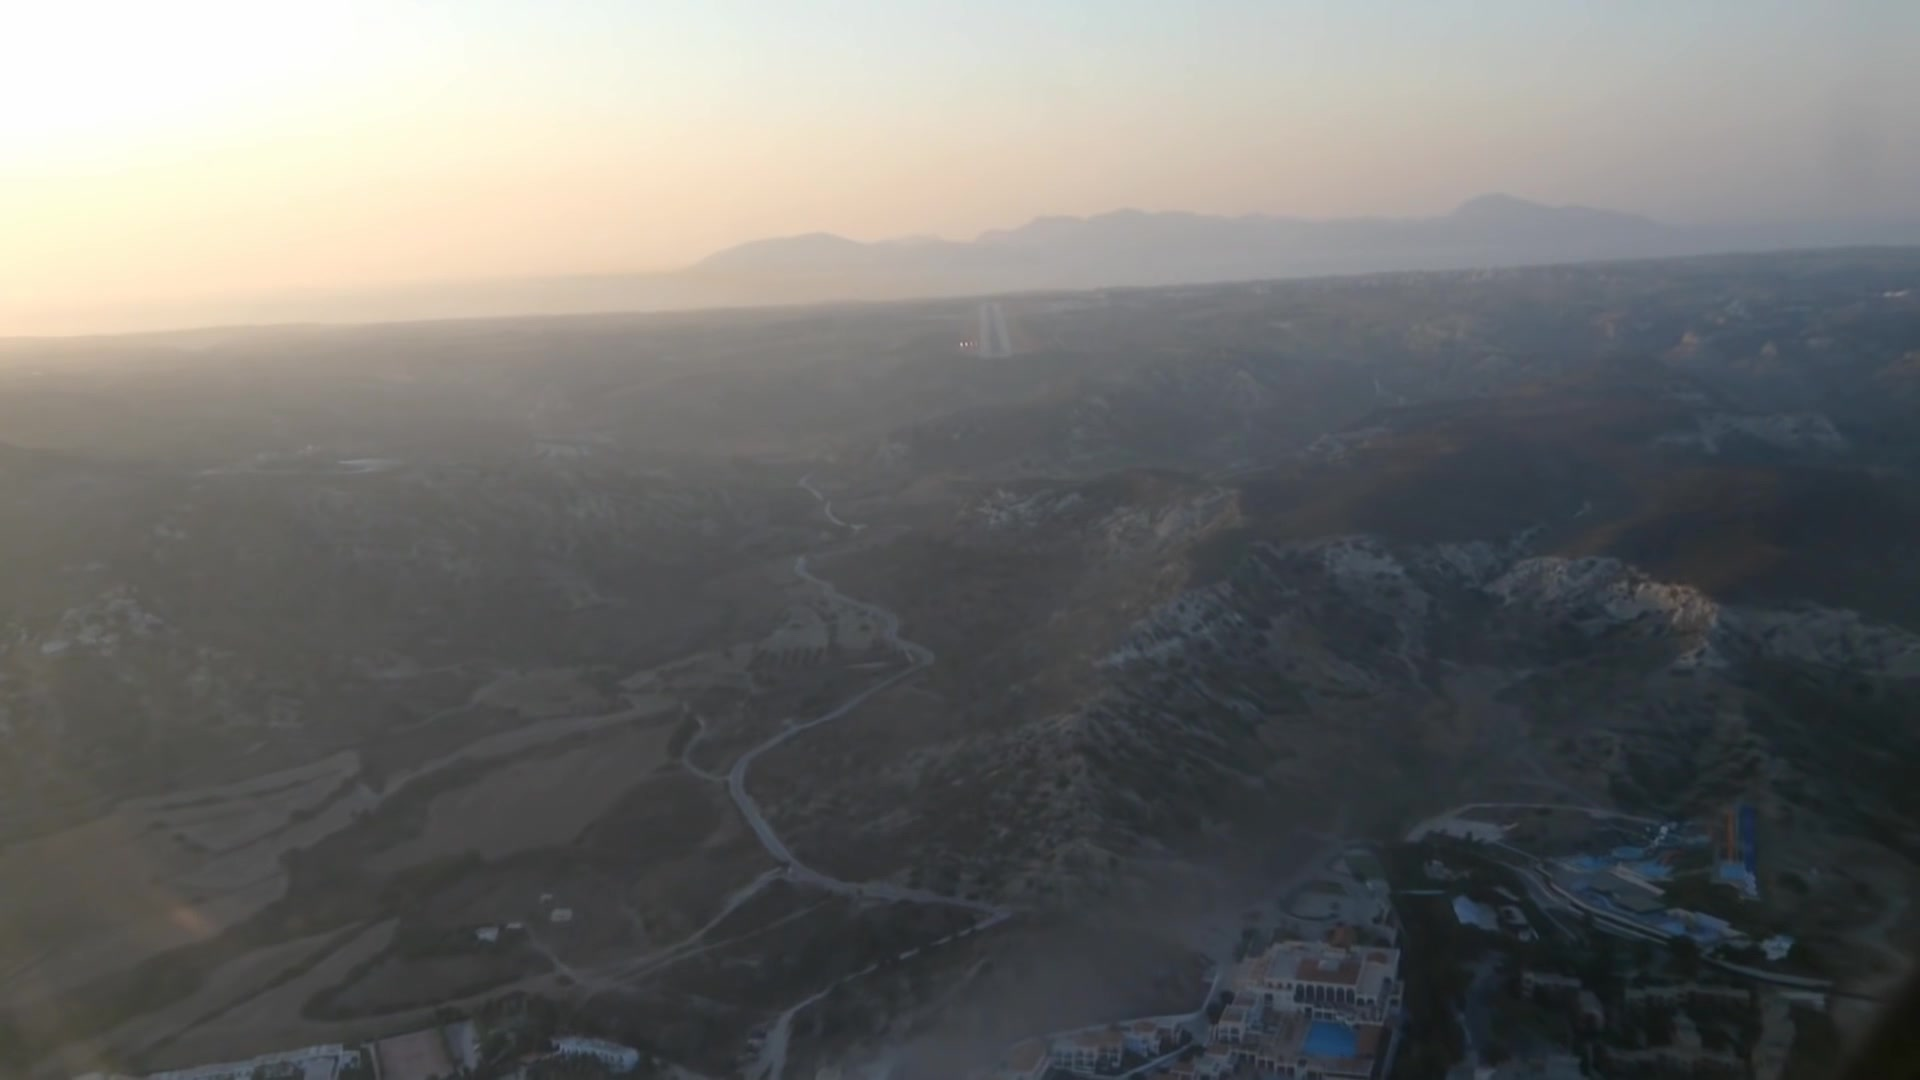runway: (972, 301, 1014, 361)
